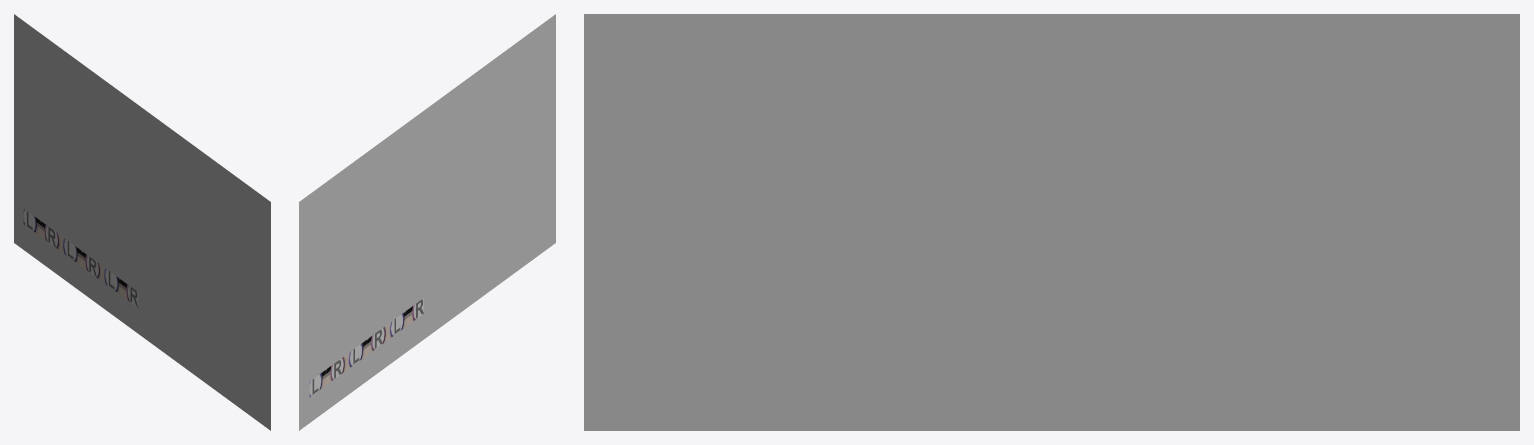
The model's file is SundanceHandHUD.dae.
The picture shows the model from 3 angles, left to right: view 1: azimuth 30°, elevation 25°; view 2: azimuth 150°, elevation 25°; view 3: azimuth 270°, elevation 25°; orthographic projection. The views are drawn at different scales.
Visible parts, largest first — view 1: Hand_HUD_Backboard, A_ButtonSet, A_ButtonSet_003, A_ButtonSet_002, A_ButtonSet_001; view 2: Hand_HUD_Backboard, A_ButtonSet_003, A_ButtonSet, A_ButtonSet_001, A_ButtonSet_002; view 3: Hand_HUD_Backboard.
Boxes of the visible parts, x1,y1,x2,y2 form: Hand_HUD_Backboard: [14, 14, 270, 430]; A_ButtonSet: [23, 119, 138, 217]; A_ButtonSet_003: [23, 208, 138, 307]; A_ButtonSet_002: [147, 300, 259, 396]; A_ButtonSet_001: [147, 209, 259, 306]; Hand_HUD_Backboard: [299, 14, 555, 430]; A_ButtonSet_003: [309, 298, 423, 396]; A_ButtonSet: [309, 208, 423, 306]; A_ButtonSet_001: [433, 119, 545, 216]; A_ButtonSet_002: [433, 210, 545, 306]; Hand_HUD_Backboard: [584, 14, 1519, 430].
Size of the model in its own units: 0.00472 by 5.88 by 2.89.
30 materials, 7 textured.
